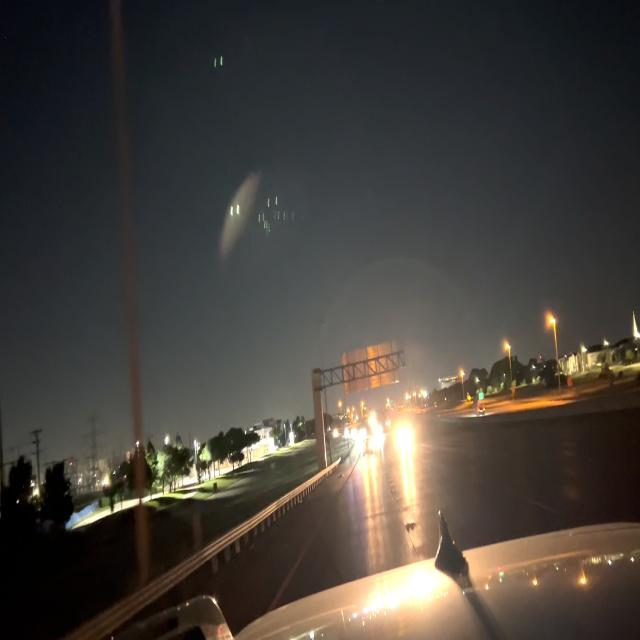back-of-sign: (341, 340, 405, 402)
